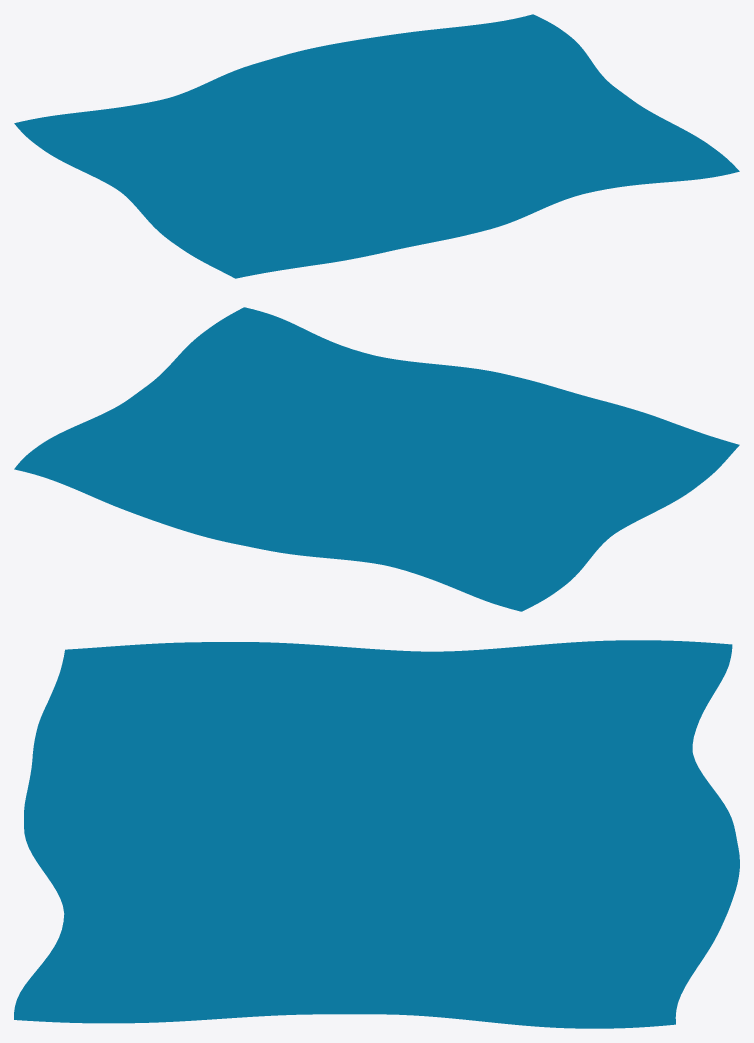
File: Carpet.fbx
The picture shows the model from 3 angles, top to bottom: view 1: azimuth 30°, elevation 25°; view 2: azimuth 150°, elevation 25°; view 3: azimuth 270°, elevation 25°; orthographic projection. The views are drawn at different scales.
Parts seen in each view (by area): view 1: pPlane3; view 2: pPlane3; view 3: pPlane3.
Part boxes in pixels (x1,y1,x2,y2): pPlane3: (14, 14, 739, 278); pPlane3: (14, 307, 739, 611); pPlane3: (14, 640, 739, 1028).
Bounding box in the file's own units: 10.42 × 0 × 8.23.
